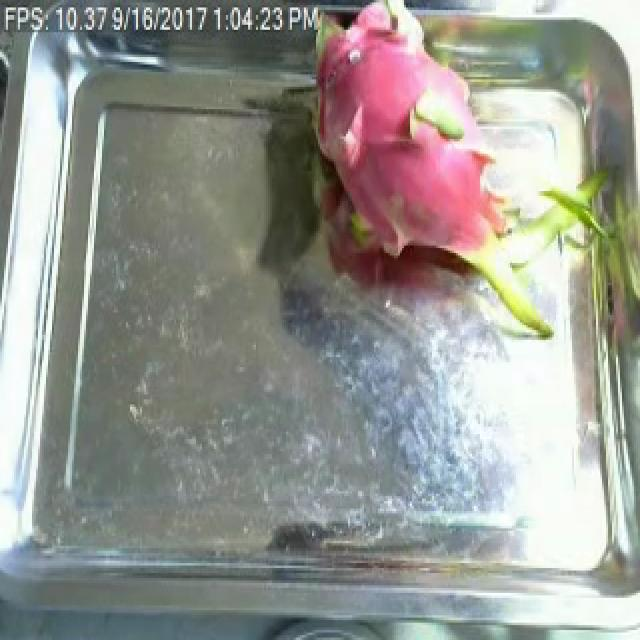fruit: (294, 0, 634, 362)
